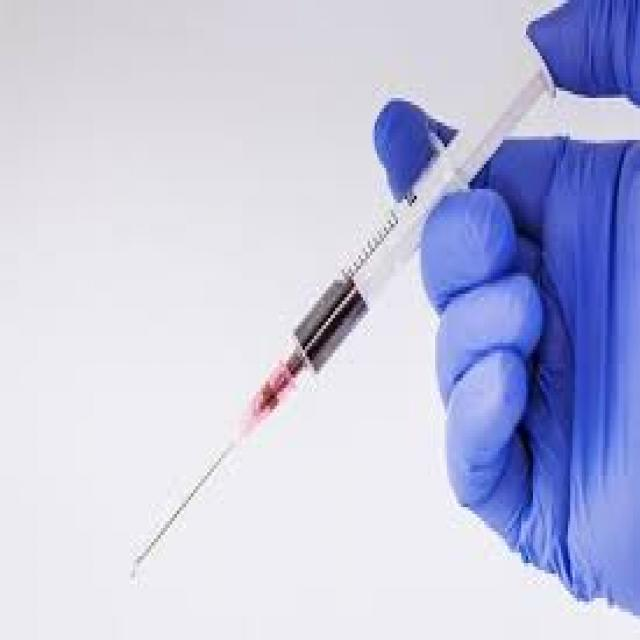syringe: (111, 41, 595, 610)
